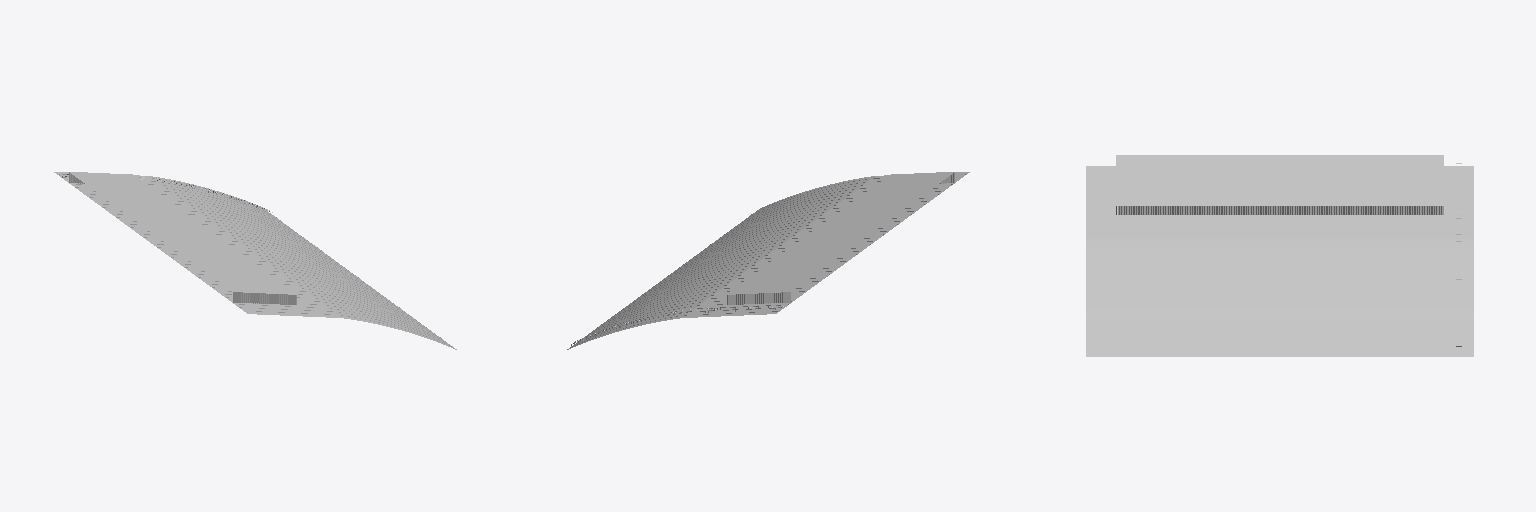
File: roof_r.obj
3 renders of one model, left to right at view 1: azimuth 30°, elevation 25°; view 2: azimuth 150°, elevation 25°; view 3: azimuth 270°, elevation 25°, orthographic.
Size of the model in its own units: 4726 by 2136 by 7545.